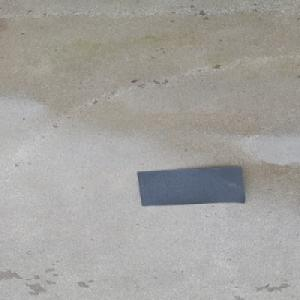PaintChip: (136, 166, 246, 206)
